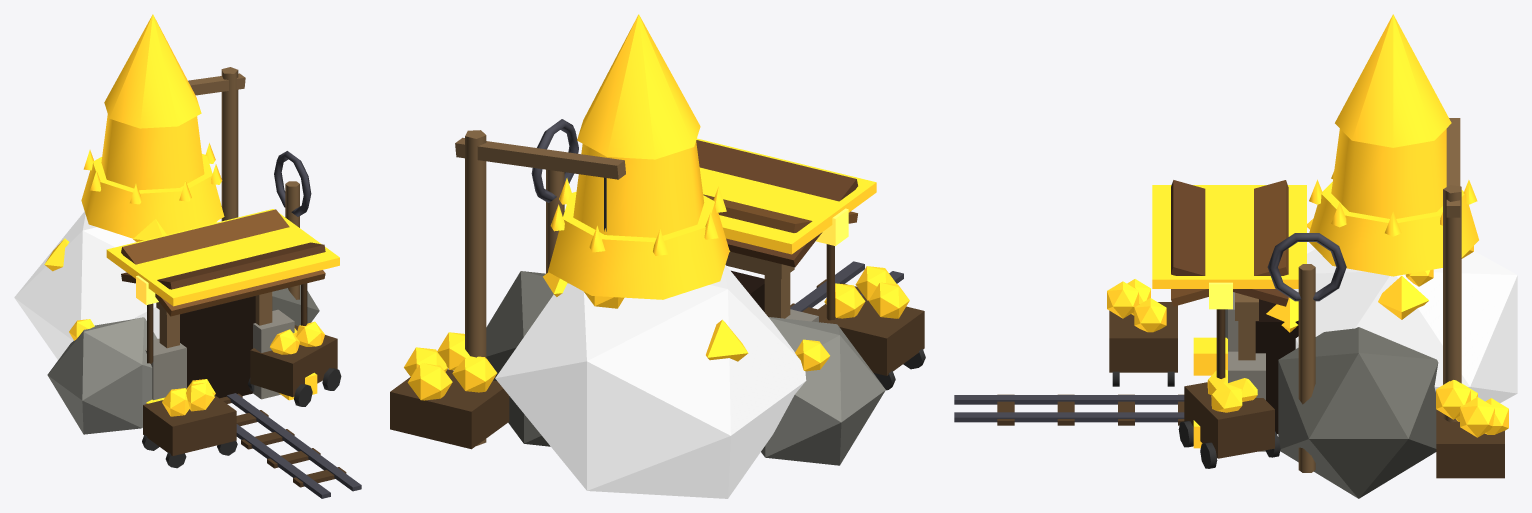
File: goblin-level5.glb
3 views of the same model, side by side, from view 1: azimuth 30°, elevation 25°; view 2: azimuth 150°, elevation 25°; view 3: azimuth 270°, elevation 25° (orthographic). The views are drawn at different scales.
Size of the model in its own units: 2.18 by 2.72 by 3.27.
